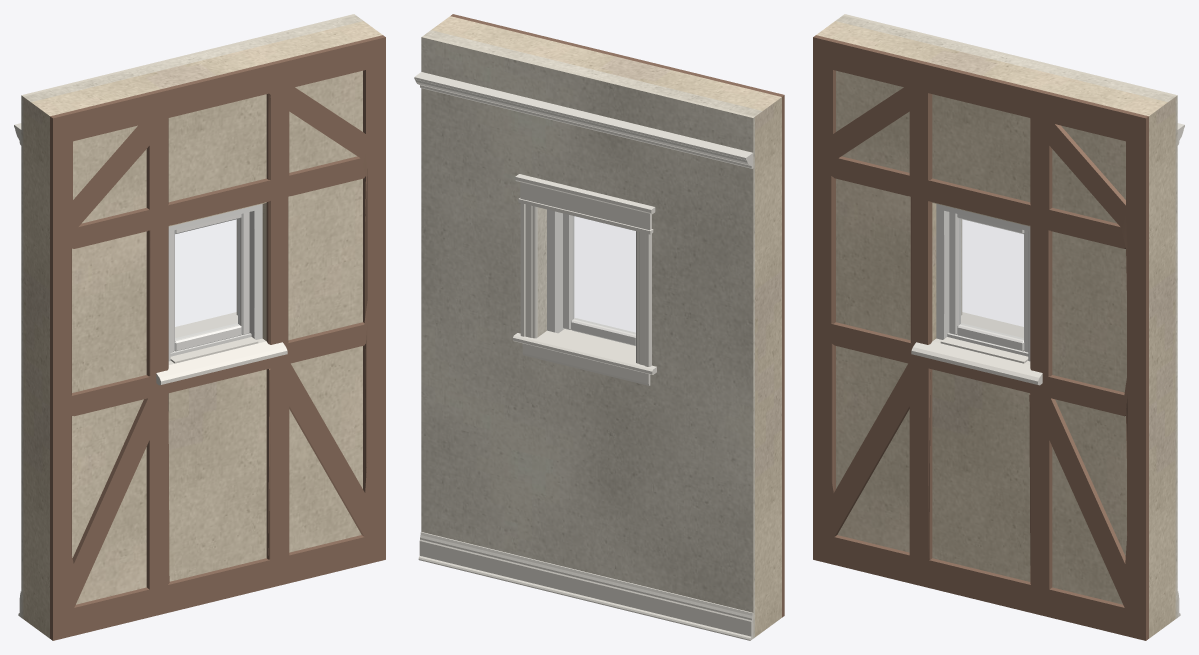
The model's file is wall_timber_small_window.glb.
3 renders of one model, left to right at view 1: azimuth 30°, elevation 25°; view 2: azimuth 150°, elevation 25°; view 3: azimuth 330°, elevation 25°, orthographic.
Parts seen in each view (by area): view 1: wall_timber_small_window_render, wall_timber_small_window_timber, folha_glass, wall_timber_small_window_plaster, folha_sash, wall_timber_small_window_frame, wall_timber_small_window_trim, molduras; view 2: wall_timber_small_window_plaster, molduras, wall_timber_small_window_render, folha_glass, wall_timber_small_window_timber, folha_sash, wall_timber_small_window_frame; view 3: wall_timber_small_window_render, wall_timber_small_window_timber, folha_glass, wall_timber_small_window_plaster, folha_sash, wall_timber_small_window_frame, wall_timber_small_window_trim, molduras.
Boxes of the visible parts, x1=… form: wall_timber_small_window_render: x1=23, y1=21, x2=382, y2=638; wall_timber_small_window_timber: x1=50, y1=35, x2=385, y2=640; folha_glass: x1=175, y1=219, x2=239, y2=339; wall_timber_small_window_plaster: x1=21, y1=14, x2=363, y2=618; folha_sash: x1=170, y1=212, x2=249, y2=352; wall_timber_small_window_frame: x1=168, y1=204, x2=262, y2=361; wall_timber_small_window_trim: x1=156, y1=334, x2=287, y2=385; molduras: x1=14, y1=123, x2=237, y2=617; wall_timber_small_window_plaster: x1=421, y1=30, x2=762, y2=638; molduras: x1=414, y1=72, x2=753, y2=640; wall_timber_small_window_render: x1=431, y1=16, x2=781, y2=637; folha_glass: x1=573, y1=216, x2=635, y2=333; wall_timber_small_window_timber: x1=450, y1=14, x2=784, y2=617; folha_sash: x1=563, y1=213, x2=635, y2=345; wall_timber_small_window_frame: x1=547, y1=209, x2=564, y2=333; wall_timber_small_window_render: x1=816, y1=21, x2=1175, y2=638; wall_timber_small_window_timber: x1=813, y1=35, x2=1148, y2=640; folha_glass: x1=959, y1=219, x2=1023, y2=339; wall_timber_small_window_plaster: x1=835, y1=14, x2=1177, y2=618; folha_sash: x1=949, y1=212, x2=1028, y2=352; wall_timber_small_window_frame: x1=936, y1=204, x2=1030, y2=361; wall_timber_small_window_trim: x1=911, y1=334, x2=1042, y2=385; molduras: x1=961, y1=123, x2=1184, y2=617.
Bounding box in the file's own units: 2 × 3 × 0.455.
Materials: 7 (2 with a texture image).
